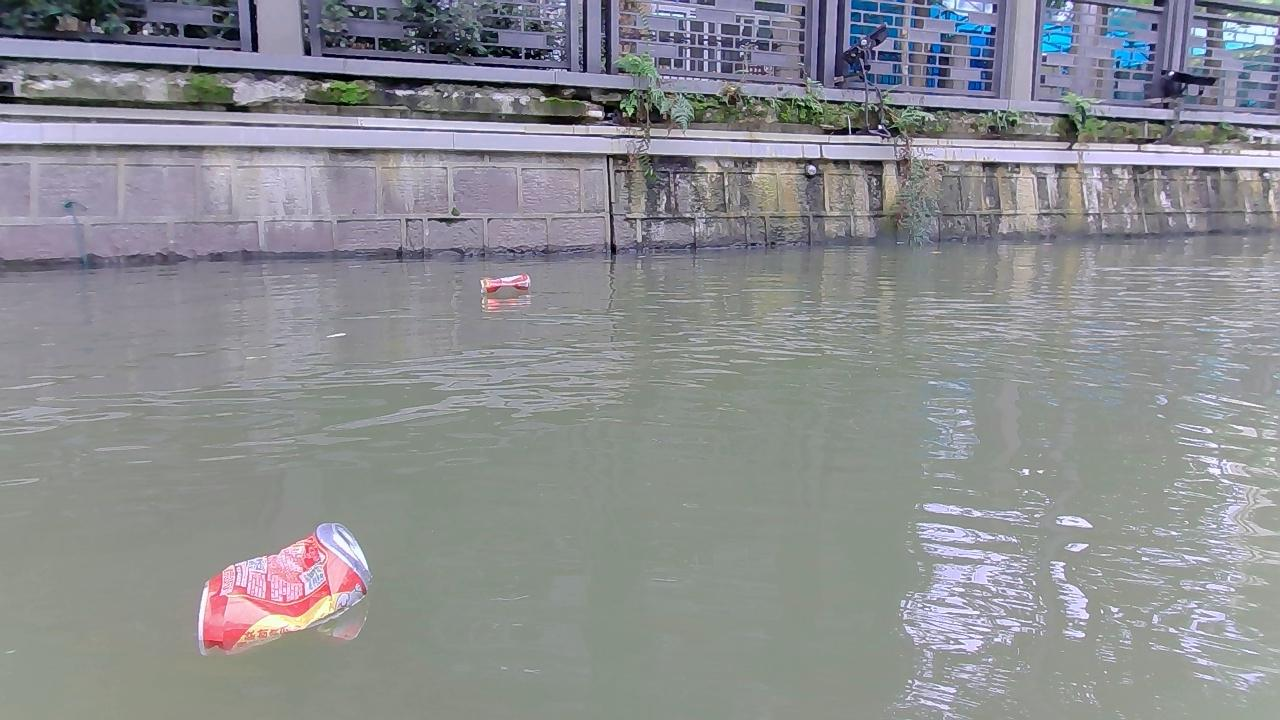Metal: (194, 520, 376, 652), (479, 272, 532, 294)
